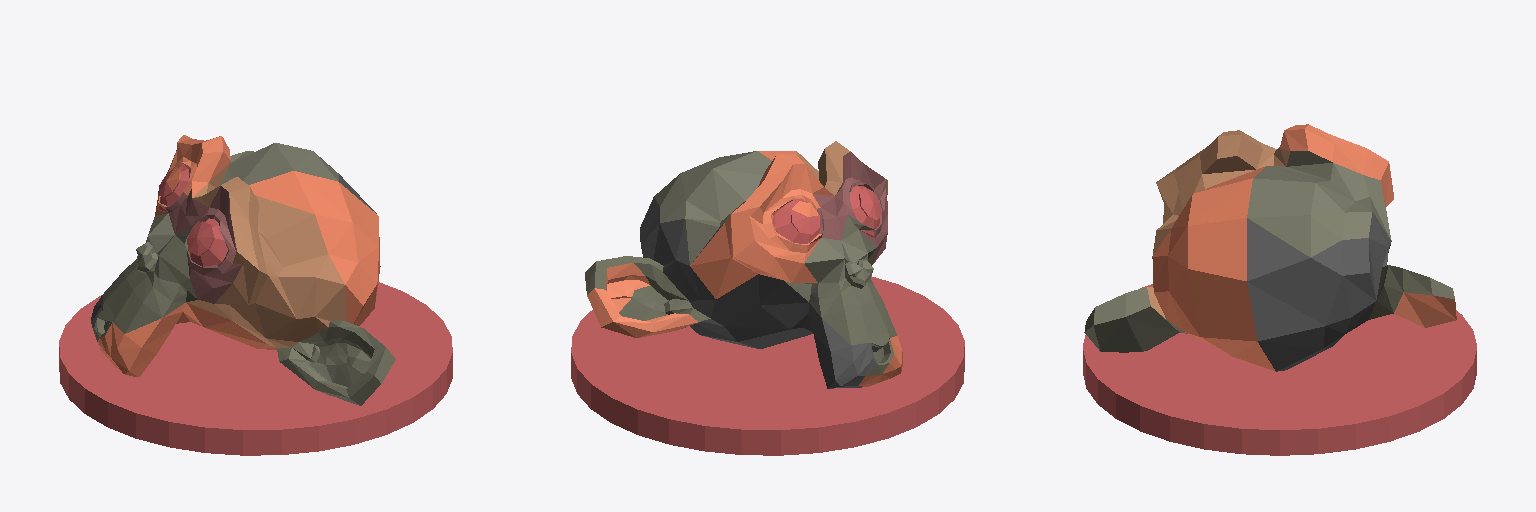
The model's file is suzanne_meshlets.obj.
3 renders of one model, left to right at view 1: azimuth 30°, elevation 25°; view 2: azimuth 150°, elevation 25°; view 3: azimuth 270°, elevation 25°, orthographic.
Visible parts, largest first — view 1: mesh_0_meshlet_2, mesh_1_meshlet_2, mesh_0_meshlet_3, mesh_1_meshlet_1, mesh_0_meshlet_1, mesh_1_meshlet_5, mesh_1_meshlet_8, mesh_1_meshlet_7, mesh_1_meshlet_4, mesh_1_meshlet_3, mesh_1_meshlet_0, mesh_1_meshlet_9; view 2: mesh_0_meshlet_2, mesh_0_meshlet_3, mesh_1_meshlet_6, mesh_1_meshlet_7, mesh_1_meshlet_3, mesh_1_meshlet_5, mesh_1_meshlet_10, mesh_1_meshlet_9, mesh_1_meshlet_4, mesh_0_meshlet_0, mesh_1_meshlet_0, mesh_1_meshlet_2 (+2 smaller); view 3: mesh_0_meshlet_3, mesh_1_meshlet_6, mesh_1_meshlet_1, mesh_1_meshlet_7, mesh_0_meshlet_2, mesh_0_meshlet_0, mesh_1_meshlet_2, mesh_1_meshlet_8, mesh_1_meshlet_3, mesh_0_meshlet_1, mesh_1_meshlet_9, mesh_1_meshlet_10.
Boxes of the visible parts, x1=… form: mesh_0_meshlet_2: x1=59, y1=295, x2=450, y2=438; mesh_1_meshlet_2: x1=187, y1=162, x2=345, y2=347; mesh_0_meshlet_3: x1=59, y1=282, x2=452, y2=429; mesh_1_meshlet_1: x1=98, y1=167, x2=380, y2=376; mesh_0_meshlet_1: x1=136, y1=353, x2=452, y2=455; mesh_1_meshlet_5: x1=93, y1=227, x2=197, y2=341; mesh_1_meshlet_8: x1=277, y1=320, x2=395, y2=405; mesh_1_meshlet_7: x1=136, y1=143, x2=338, y2=274; mesh_1_meshlet_4: x1=160, y1=186, x2=242, y2=303; mesh_1_meshlet_3: x1=155, y1=135, x2=230, y2=215; mesh_1_meshlet_0: x1=158, y1=165, x2=227, y2=266; mesh_1_meshlet_9: x1=337, y1=333, x2=370, y2=374; mesh_0_meshlet_2: x1=571, y1=284, x2=963, y2=455; mesh_0_meshlet_3: x1=573, y1=276, x2=964, y2=454; mesh_1_meshlet_6: x1=640, y1=197, x2=878, y2=388; mesh_1_meshlet_7: x1=654, y1=151, x2=873, y2=317; mesh_1_meshlet_3: x1=690, y1=154, x2=833, y2=298; mesh_1_meshlet_5: x1=822, y1=215, x2=896, y2=375; mesh_1_meshlet_10: x1=587, y1=263, x2=697, y2=337; mesh_1_meshlet_9: x1=585, y1=256, x2=710, y2=328; mesh_1_meshlet_4: x1=810, y1=152, x2=887, y2=264; mesh_0_meshlet_0: x1=571, y1=353, x2=668, y2=443; mesh_1_meshlet_0: x1=773, y1=186, x2=881, y2=250; mesh_1_meshlet_2: x1=796, y1=141, x2=887, y2=195; mesh_0_meshlet_3: x1=1083, y1=284, x2=1461, y2=429; mesh_1_meshlet_6: x1=1247, y1=212, x2=1391, y2=371; mesh_1_meshlet_1: x1=1152, y1=166, x2=1275, y2=371; mesh_1_meshlet_7: x1=1247, y1=151, x2=1390, y2=257; mesh_0_meshlet_2: x1=1083, y1=310, x2=1476, y2=423; mesh_0_meshlet_0: x1=1170, y1=351, x2=1476, y2=455; mesh_1_meshlet_2: x1=1147, y1=130, x2=1289, y2=318; mesh_1_meshlet_8: x1=1084, y1=287, x2=1187, y2=352; mesh_1_meshlet_3: x1=1278, y1=124, x2=1393, y2=240; mesh_0_meshlet_1: x1=1083, y1=351, x2=1169, y2=441; mesh_1_meshlet_9: x1=1369, y1=265, x2=1454, y2=319; mesh_1_meshlet_10: x1=1394, y1=292, x2=1456, y2=327.
Size of the model in its own units: 2.8 by 1.82 by 2.8.